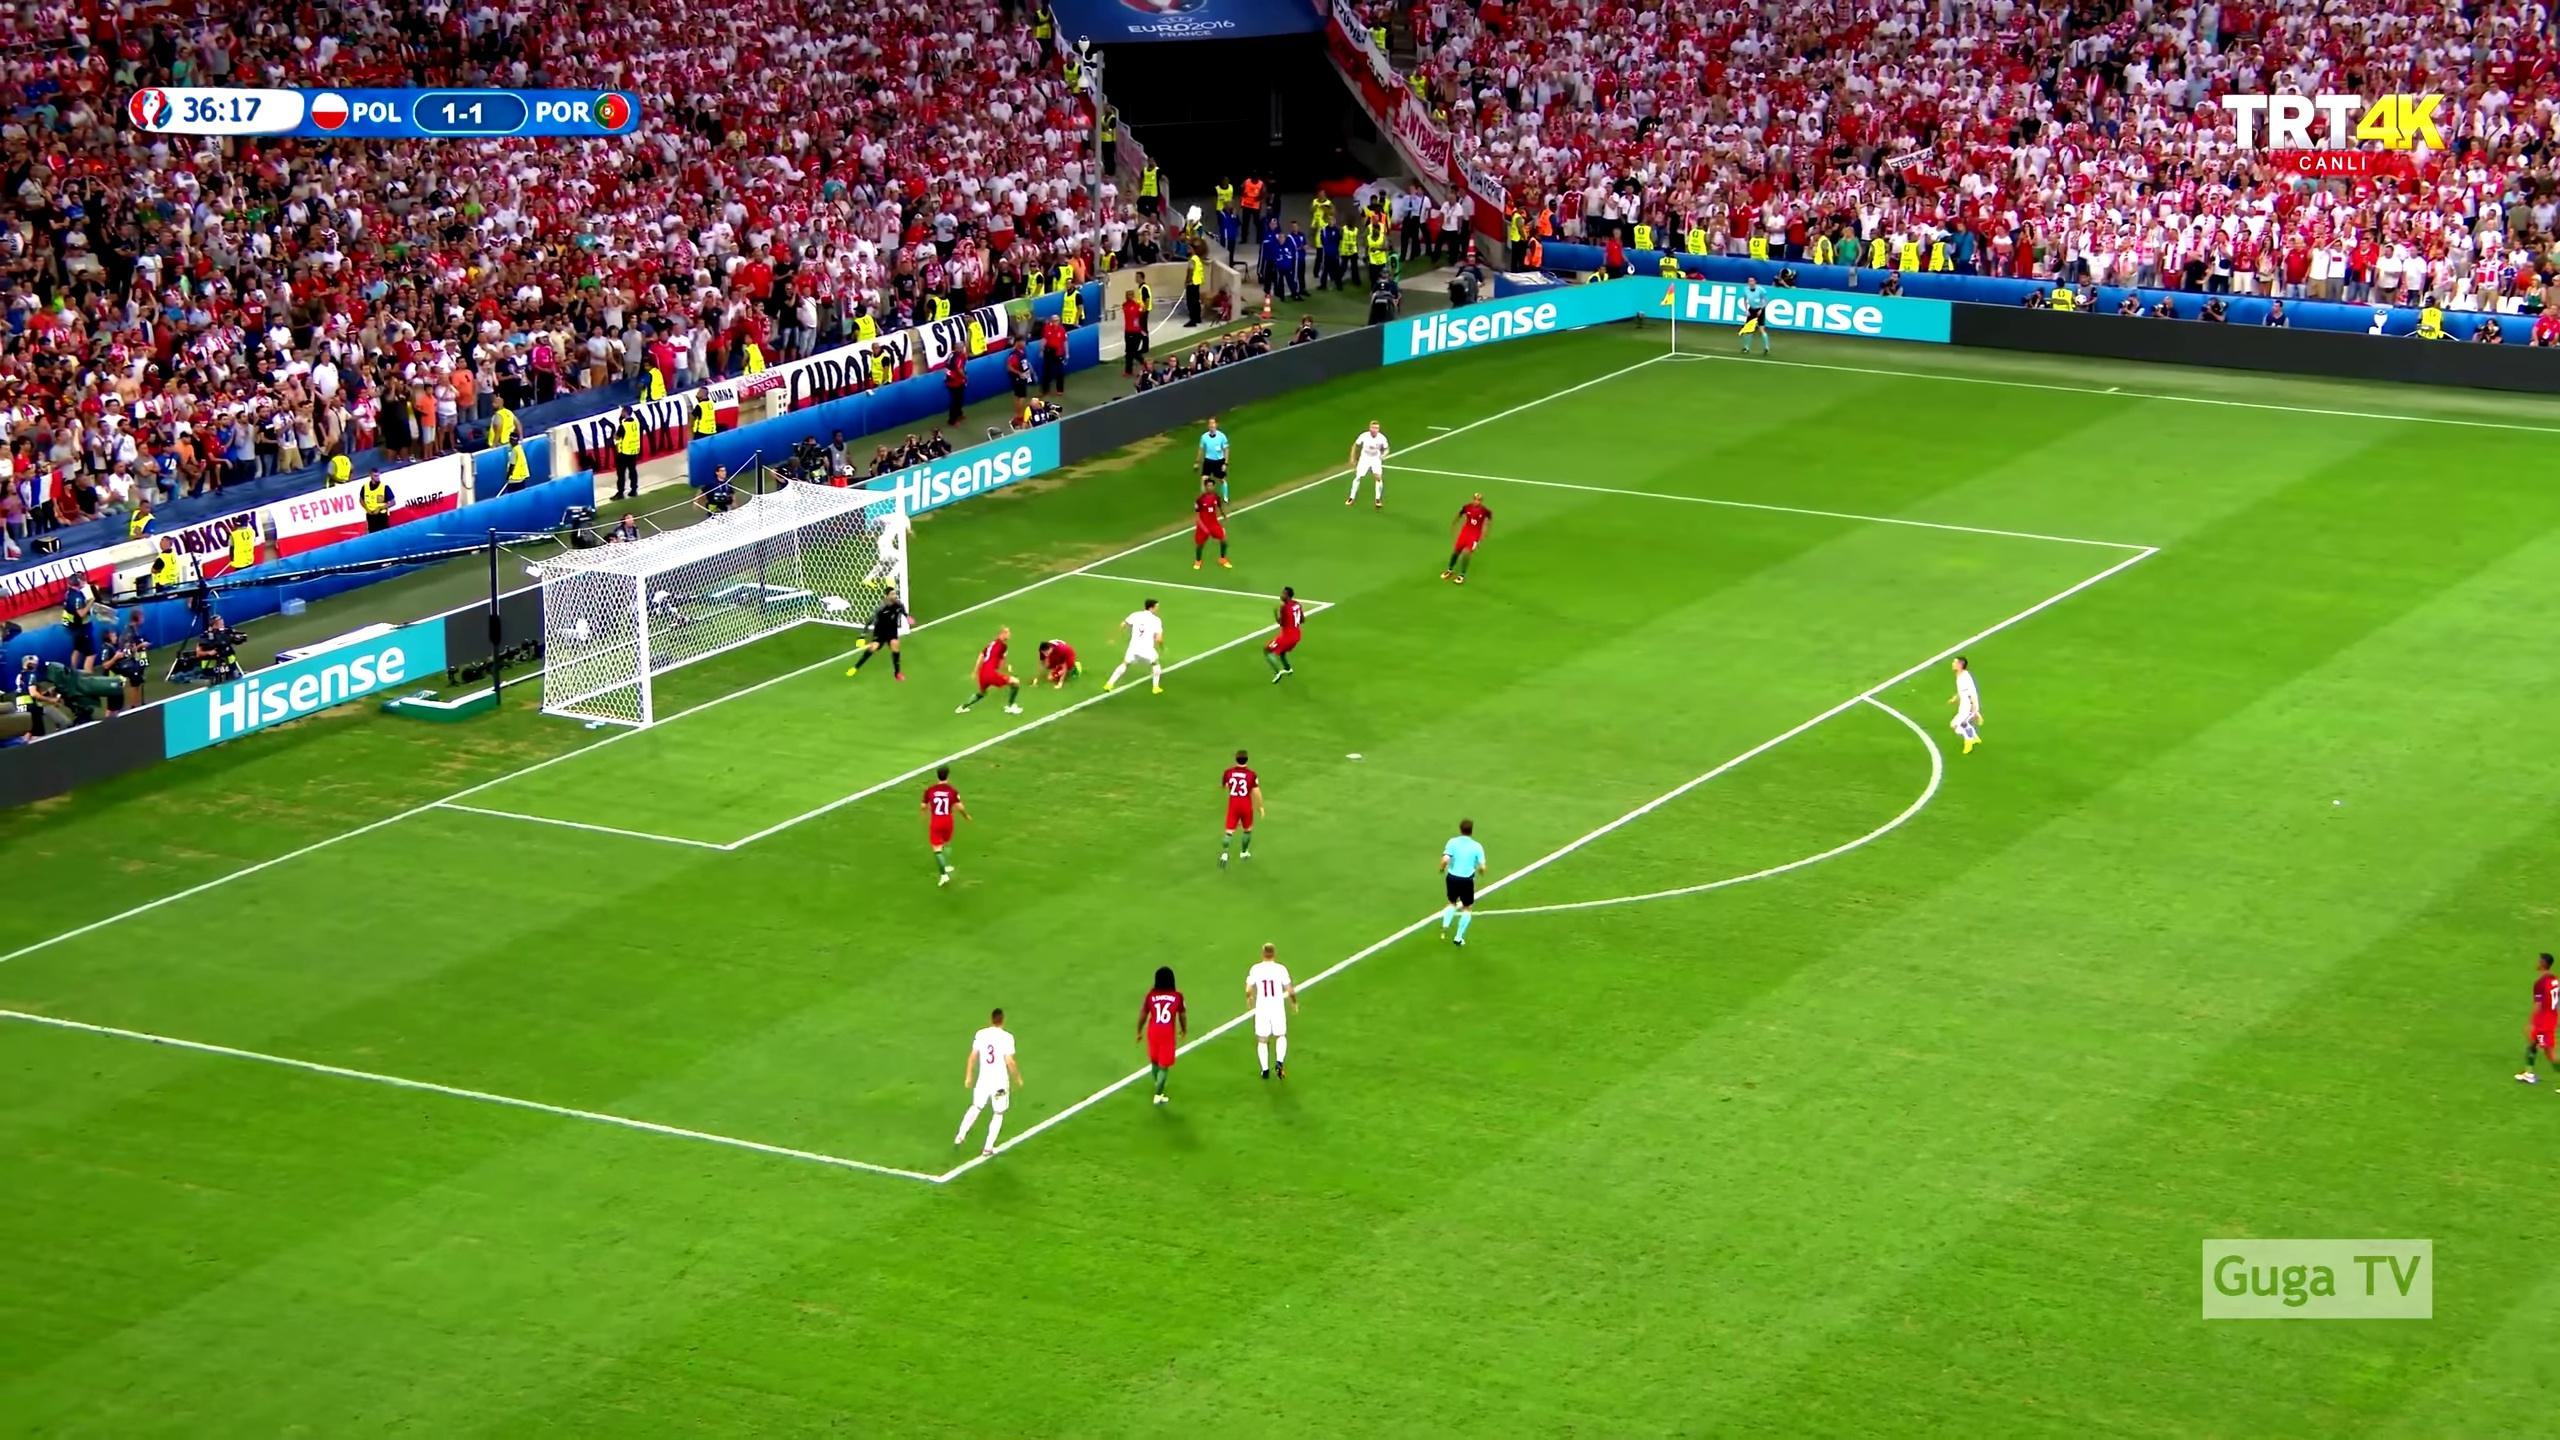goalkeeper: (840, 581, 919, 688)
player: (947, 1003, 1029, 1160), (1130, 959, 1195, 1111), (1240, 939, 1303, 1086), (1100, 593, 1183, 704), (949, 617, 1028, 723), (916, 760, 978, 891), (2511, 946, 2560, 1108), (1213, 746, 1270, 869), (1436, 489, 1499, 587), (1942, 647, 1993, 760), (1259, 581, 1309, 689), (1341, 417, 1395, 515), (1189, 477, 1235, 572), (1027, 629, 1089, 693)
referee: (1431, 811, 1492, 953), (1189, 414, 1237, 516), (1737, 276, 1776, 363)
